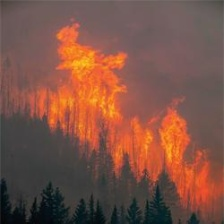fire: (35, 33, 224, 207)
